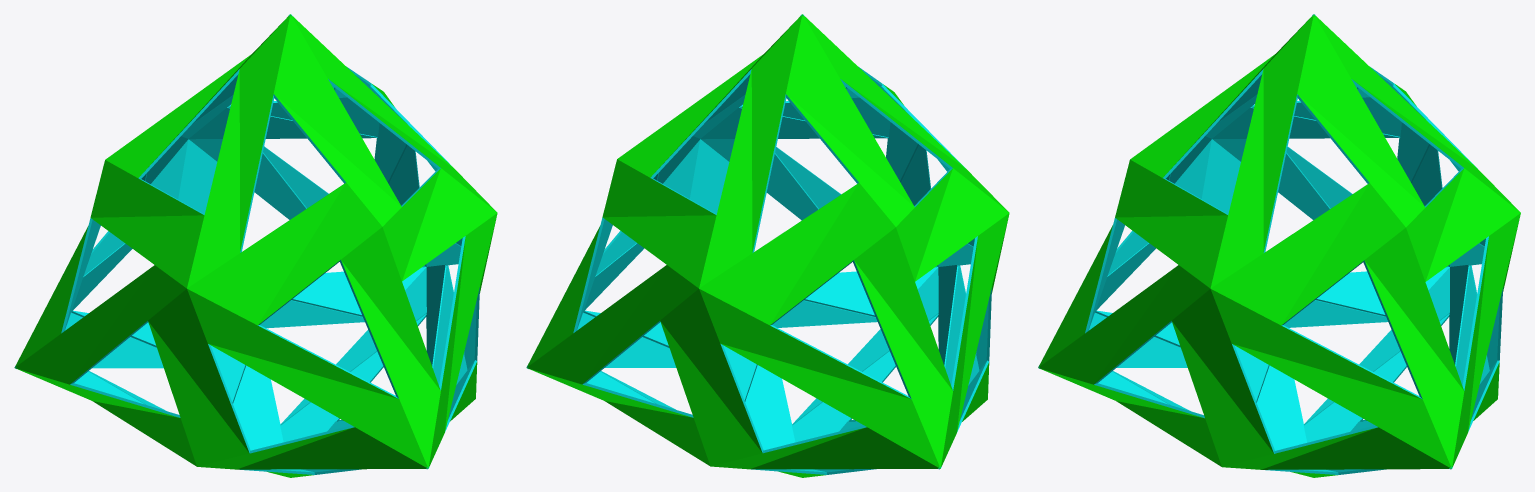
The model's file is HexakisTetrahedron.glb.
3 renders of one model, left to right at view 1: azimuth 30°, elevation 25°; view 2: azimuth 150°, elevation 25°; view 3: azimuth 270°, elevation 25°, orthographic.
Parts seen in each view (by area): view 1: root; view 2: root; view 3: root.
Part boxes in pixels (x1=…): root: x1=14, y1=14, x2=497, y2=477; root: x1=526, y1=14, x2=1009, y2=477; root: x1=1038, y1=14, x2=1520, y2=477.
Bounding box in the file's own units: 8.82 × 9.44 × 8.91.
